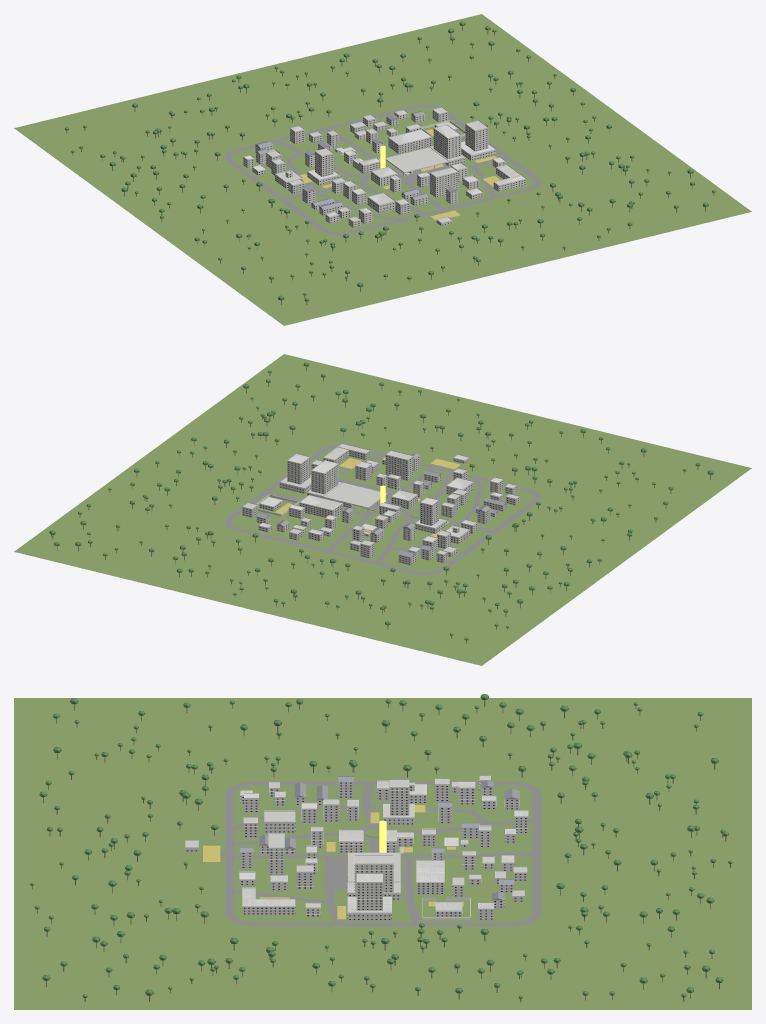
Rendered from city.glb.
3 views of the same model, one above another, from view 1: azimuth 30°, elevation 25°; view 2: azimuth 150°, elevation 25°; view 3: azimuth 270°, elevation 25° (orthographic). The views are drawn at different scales.
Visible parts, largest first — view 1: Ground, Jungle, Roads, S238_MURAI_TOWER, S203_OFFICE_CARPARK, S208_HDB, S206_CONDOMINIUM, InterchangeRoof; view 2: Ground, Jungle, Roads, S238_MURAI_TOWER, S208_HDB, S203_OFFICE_CARPARK, S206_CONDOMINIUM, InterchangeRoof; view 3: Ground, Jungle, Roads, S203_OFFICE_CARPARK, S206_CONDOMINIUM, S238_MURAI_TOWER, S205_CONDO_MALL, S236_SKOPEK_HOTEL, S208_HDB, S207, S261_SHOPPING_CENTRE, HubFloor (+1 smaller).
Part boxes in pixels (<box>): Ground: <box>14,14,751,325</box>; Jungle: <box>65,21,715,304</box>; Roads: <box>224,104,540,235</box>; S238_MURAI_TOWER: <box>433,124,461,158</box>; S203_OFFICE_CARPARK: <box>388,129,431,153</box>; S208_HDB: <box>430,167,458,197</box>; S206_CONDOMINIUM: <box>465,120,488,151</box>; InterchangeRoof: <box>402,147,448,168</box>; Ground: <box>14,354,751,665</box>; Jungle: <box>49,362,713,643</box>; Roads: <box>225,444,541,575</box>; S238_MURAI_TOWER: <box>311,460,338,494</box>; S208_HDB: <box>385,450,413,480</box>; S203_OFFICE_CARPARK: <box>299,494,342,517</box>; S206_CONDOMINIUM: <box>287,453,310,484</box>; InterchangeRoof: <box>324,482,370,504</box>; Ground: <box>14,698,751,1009</box>; Jungle: <box>30,694,732,1002</box>; Roads: <box>220,781,540,926</box>; S203_OFFICE_CARPARK: <box>416,859,444,894</box>; S206_CONDOMINIUM: <box>356,873,382,910</box>; S238_MURAI_TOWER: <box>354,855,393,892</box>; S205_CONDO_MALL: <box>347,896,391,920</box>; S236_SKOPEK_HOTEL: <box>390,779,409,815</box>; S208_HDB: <box>268,832,284,876</box>; S207: <box>255,898,295,915</box>; S261_SHOPPING_CENTRE: <box>264,810,295,832</box>; HubFloor: <box>328,859,347,889</box>.
Bounding box in the file's own units: 840 × 45.1 × 840.
